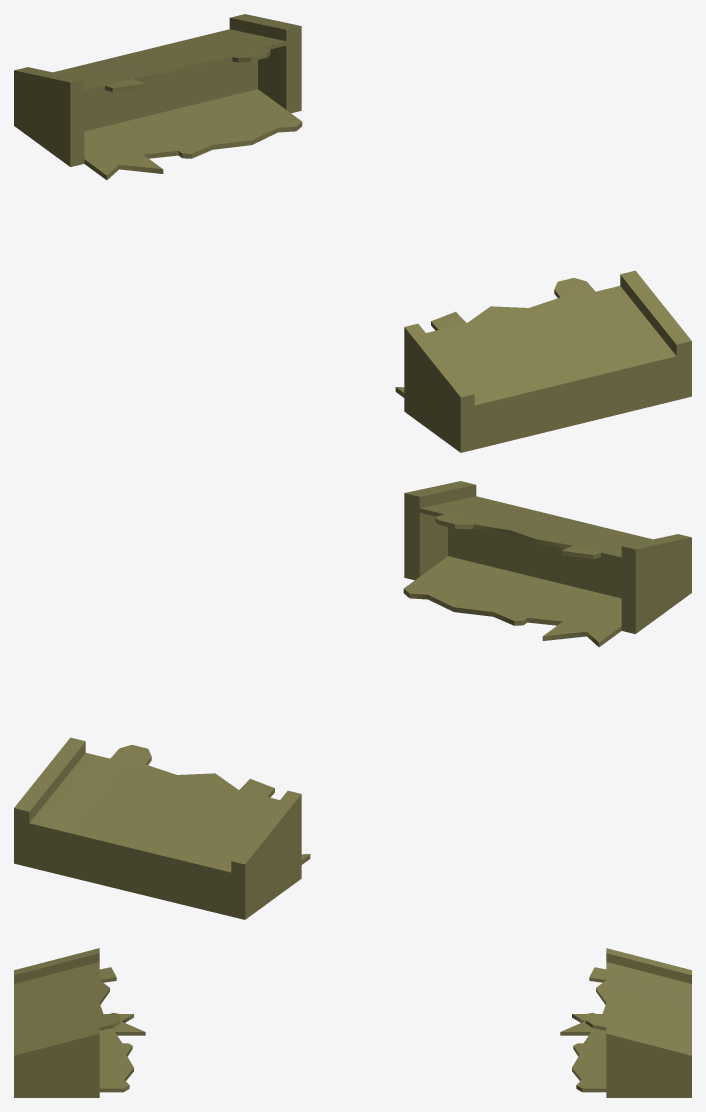
The model's file is puenteRoto.fbx.
3 views of the same model, one above another, from view 1: azimuth 30°, elevation 25°; view 2: azimuth 150°, elevation 25°; view 3: azimuth 270°, elevation 25° (orthographic). The views are drawn at different scales.
Parts seen in each view (by area): view 1: polySurface3; view 2: polySurface3; view 3: polySurface3.
Boxes of the visible parts, x1,y1,x2,y2 form: polySurface3: (14, 14, 691, 452); polySurface3: (14, 481, 691, 919); polySurface3: (14, 948, 691, 1097).
Bounding box in the file's own units: 10.51 × 3.69 × 35.2.
